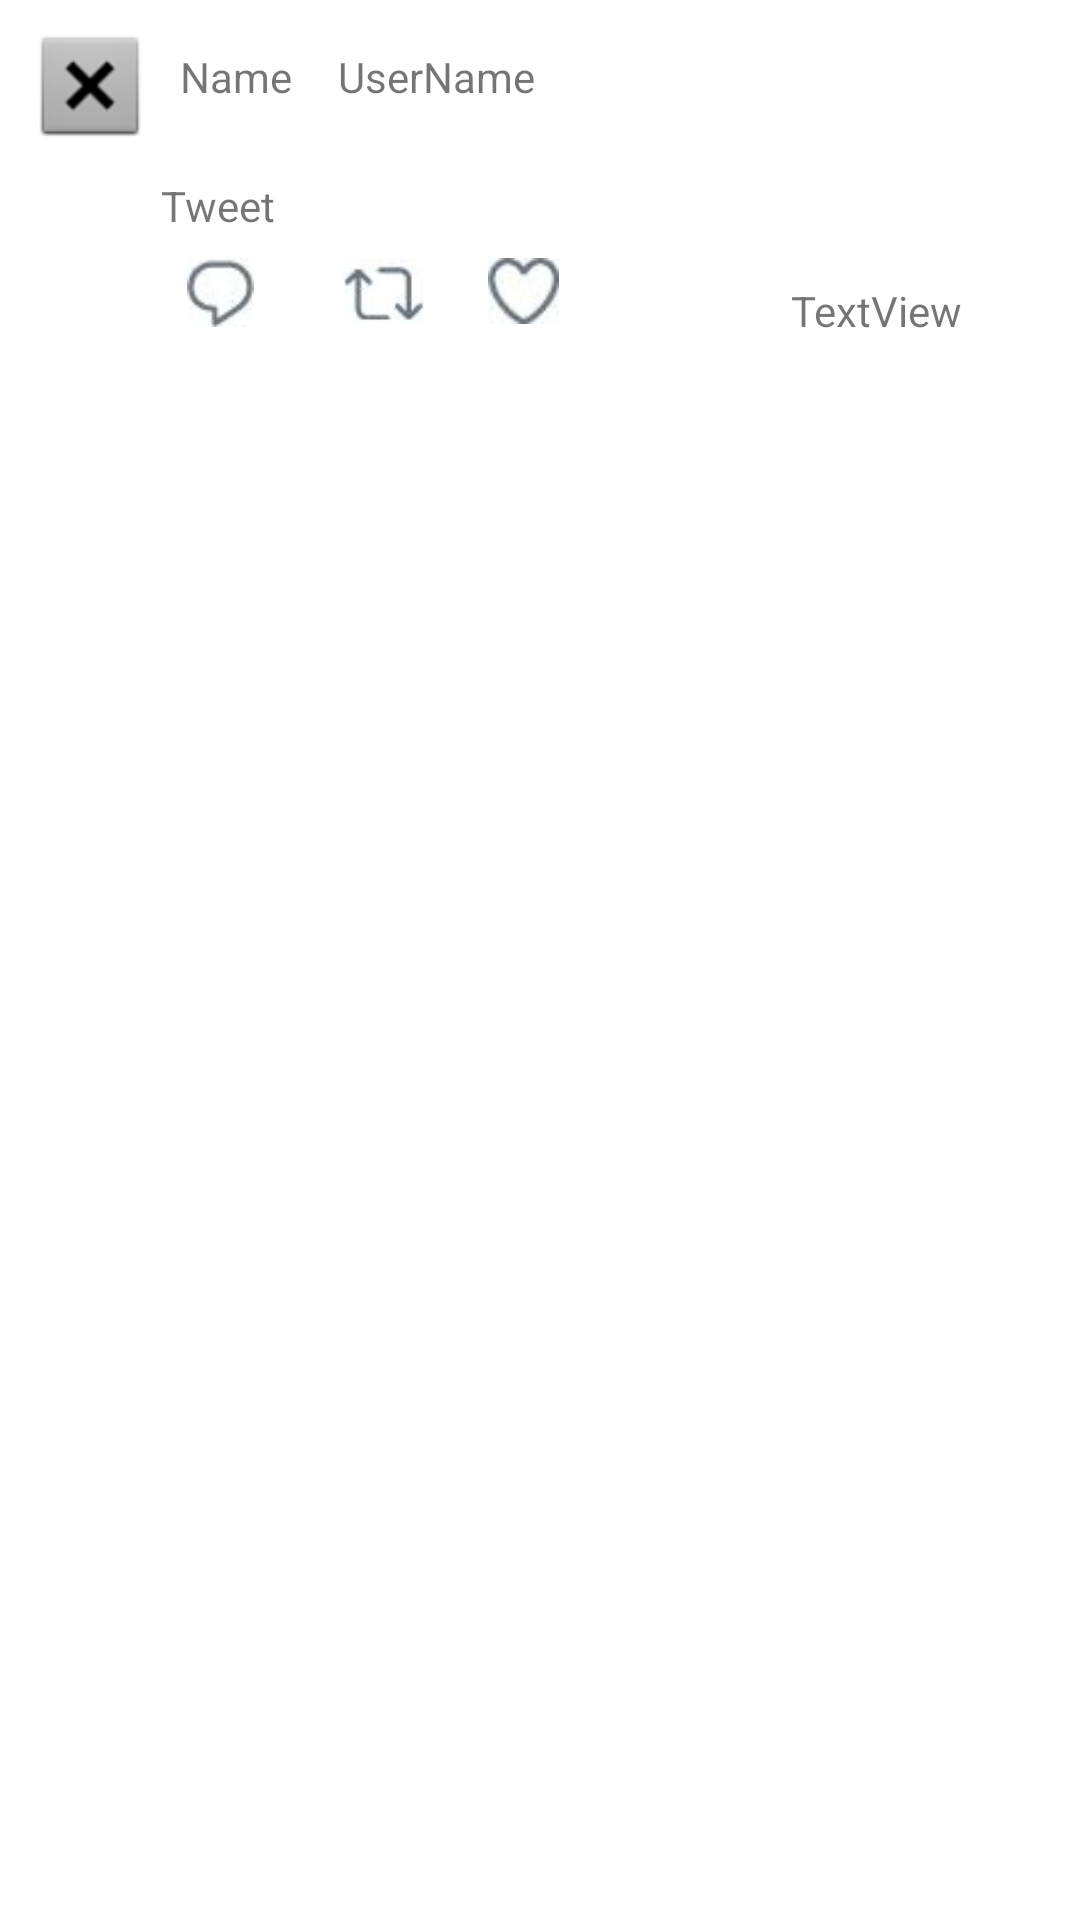

Locate icon controls on the screen. Image size 1080px×1920px, boxes as bbox=[x1, y1, x2, y2].
like: bbox=[488, 258, 559, 324]
reply: bbox=[187, 260, 254, 327]
